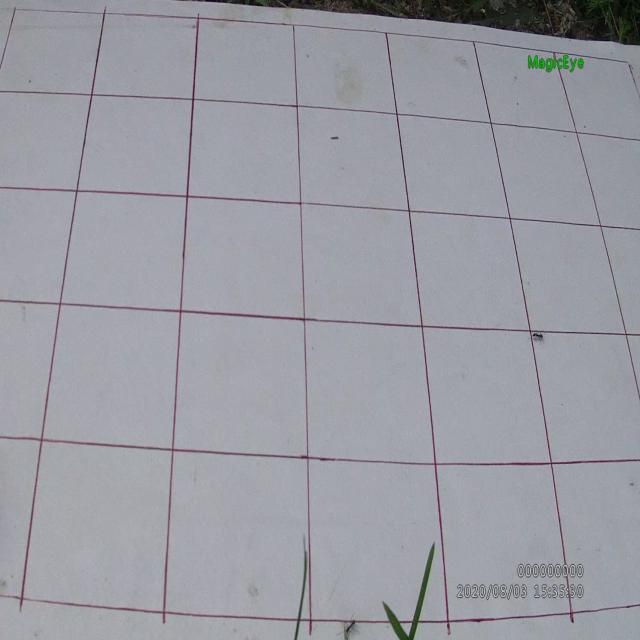Ant: (344, 612, 359, 634), (527, 330, 544, 346)
